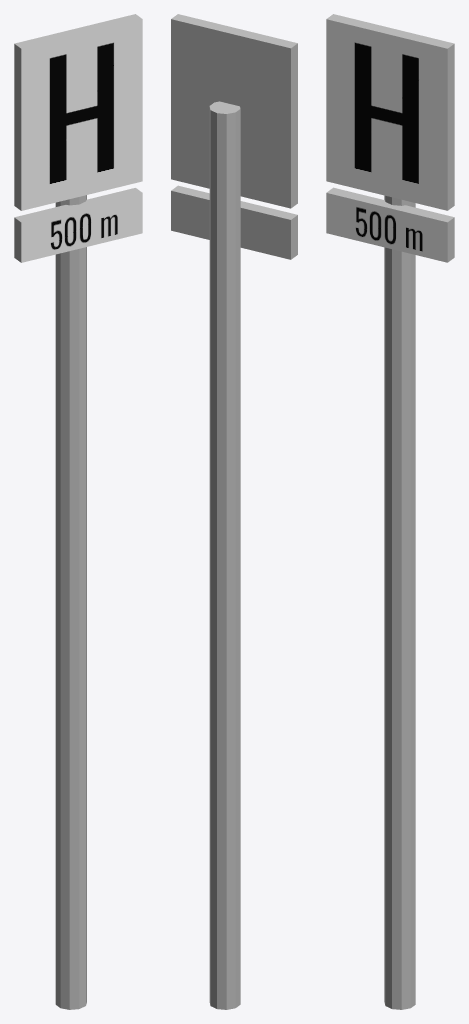
File: Halt500m.obj
3 renders of one model, left to right at view 1: azimuth 30°, elevation 25°; view 2: azimuth 150°, elevation 25°; view 3: azimuth 330°, elevation 25°, orthographic.
Parts seen in each view (by area): view 1: Cylinder; view 2: Cylinder; view 3: Cylinder.
Boxes of the visible parts, x1,y1,x2,y2 form: Cylinder: (14, 14, 142, 1009); Cylinder: (171, 14, 297, 1009); Cylinder: (326, 14, 454, 1009).
Bounding box in the file's own units: 0.4221 × 3.25 × 0.1201.
